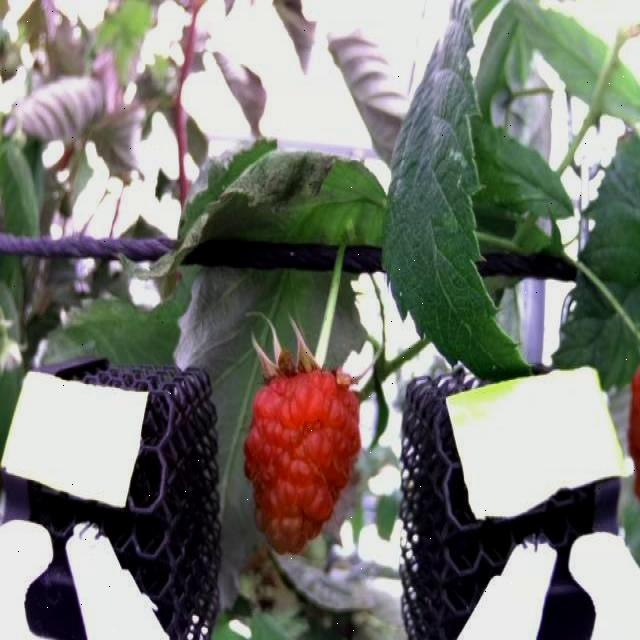Riped berries: (241, 363, 363, 553), (625, 356, 640, 508)
